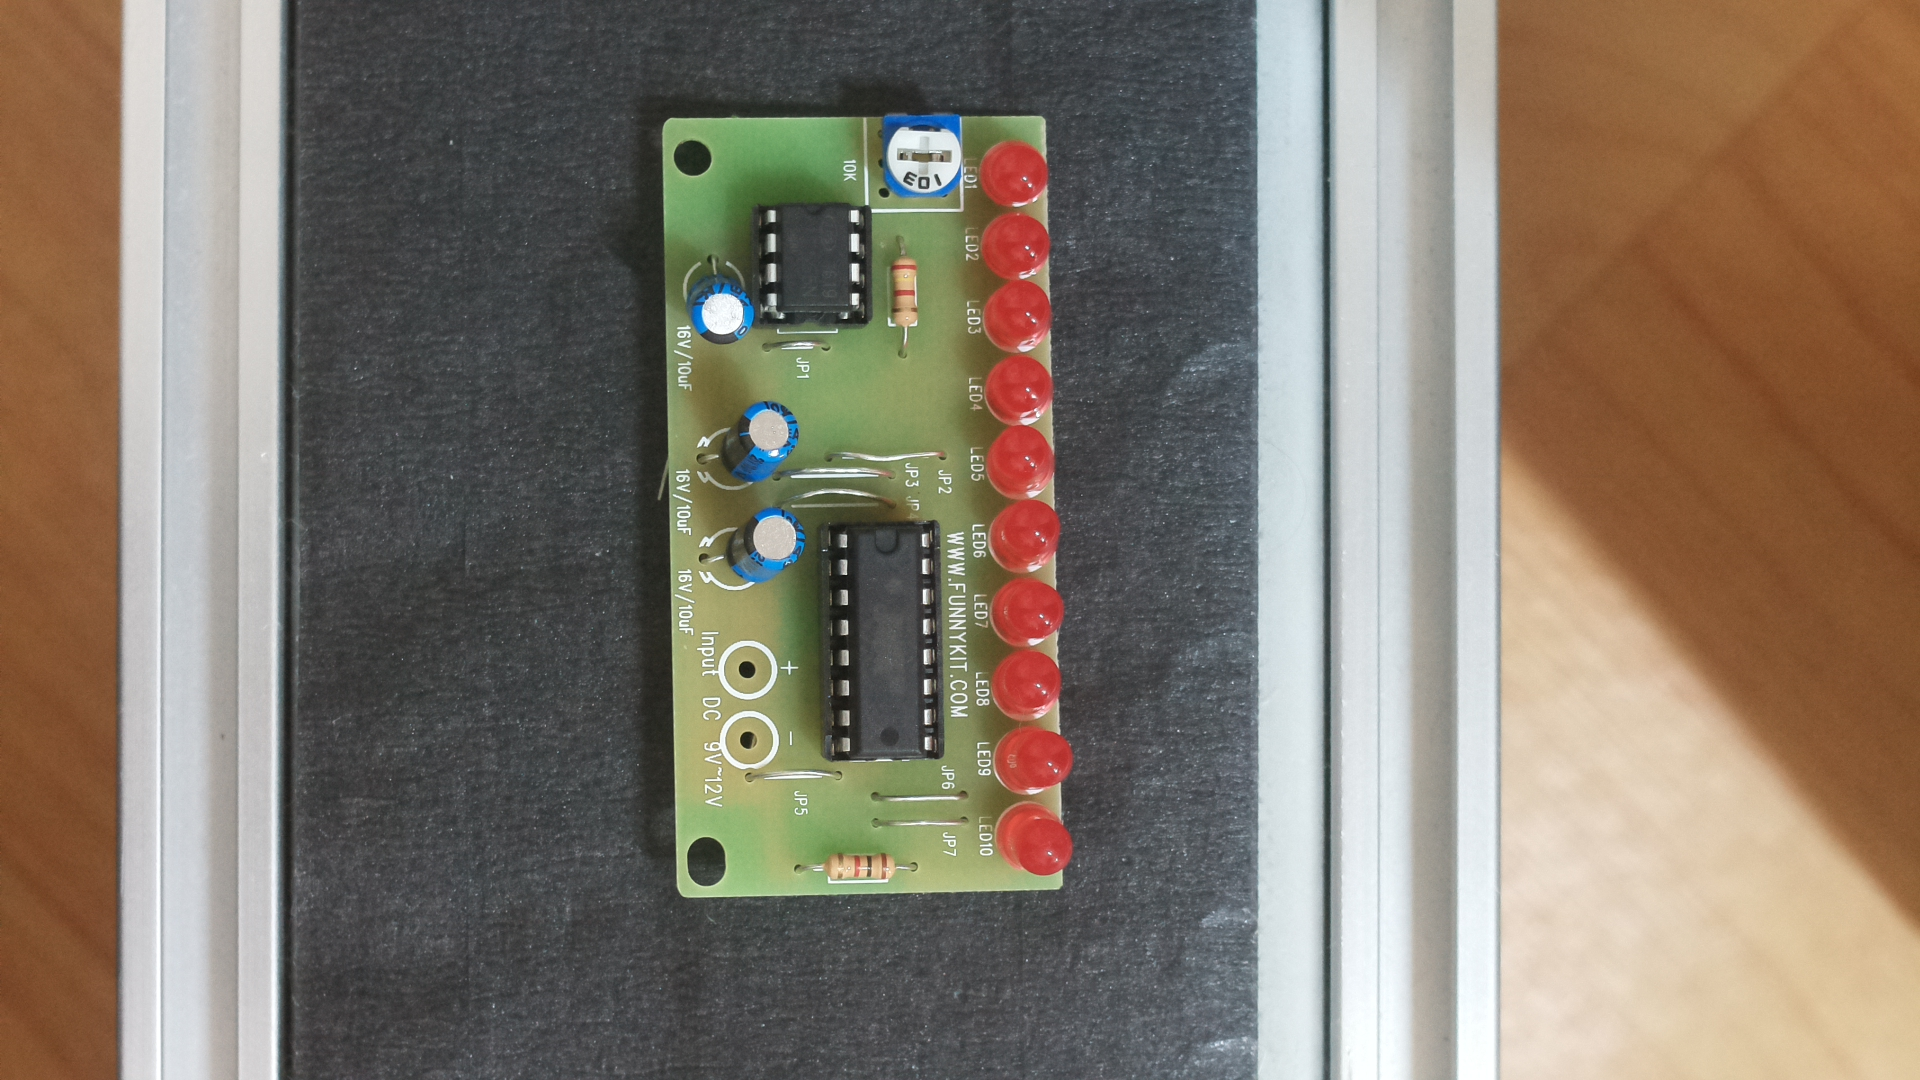B_Normal: (645, 95, 1081, 919)
